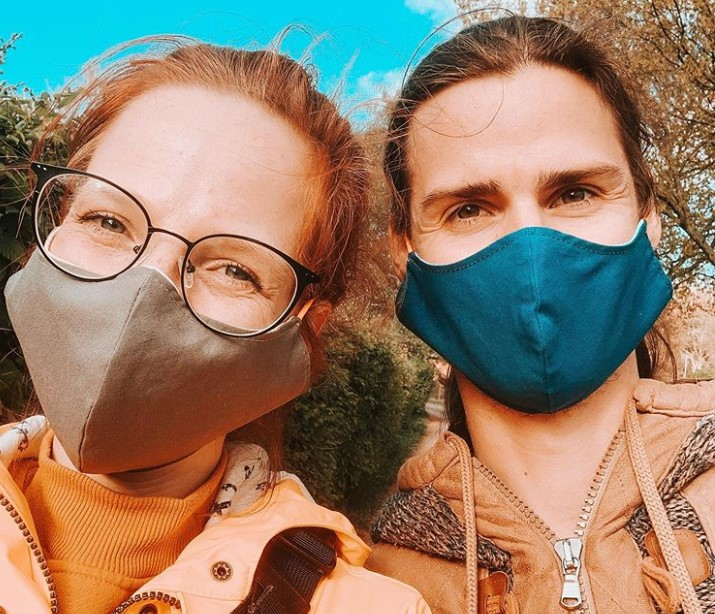face_with_mask: (10, 41, 351, 477), (385, 42, 674, 420)
